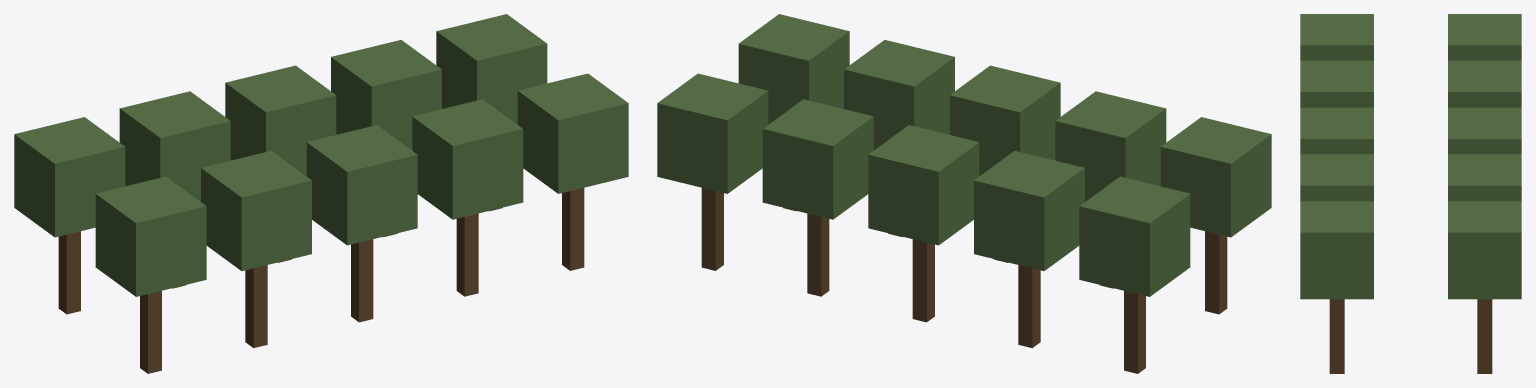
Rendered from Tree-rows.glb.
3 views of the same model, side by side, from view 1: azimuth 30°, elevation 25°; view 2: azimuth 150°, elevation 25°; view 3: azimuth 270°, elevation 25° (orthographic). The views are drawn at different scales.
Parts seen in each view (by area): view 1: tree-rows-static-tree-leaf, tree-rows-static-tree-trunk; view 2: tree-rows-static-tree-leaf, tree-rows-static-tree-trunk; view 3: tree-rows-static-tree-leaf, tree-rows-static-tree-trunk.
Boxes of the visible parts, x1=… form: tree-rows-static-tree-leaf: x1=14, y1=14, x2=628, y2=296; tree-rows-static-tree-trunk: x1=58, y1=188, x2=584, y2=373; tree-rows-static-tree-leaf: x1=657, y1=14, x2=1271, y2=296; tree-rows-static-tree-trunk: x1=701, y1=188, x2=1227, y2=373; tree-rows-static-tree-leaf: x1=1300, y1=14, x2=1521, y2=299; tree-rows-static-tree-trunk: x1=1329, y1=299, x2=1492, y2=373.
Bounding box in the file's own units: 7 × 2.3 × 3.
